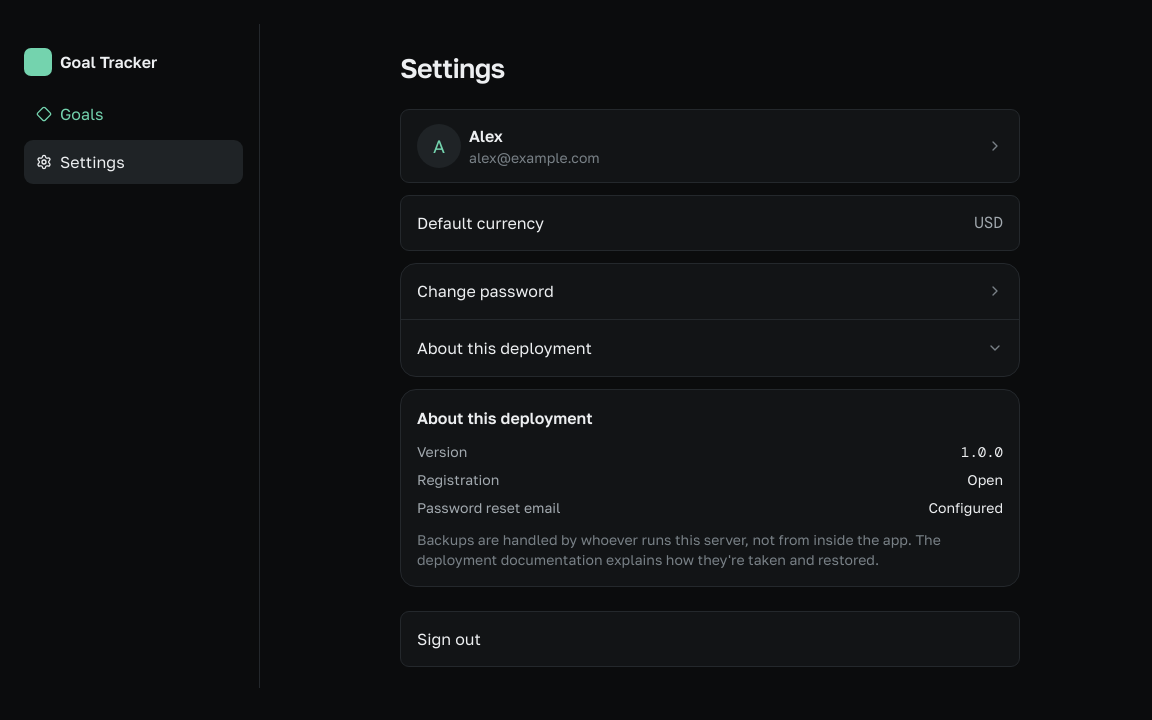
Test: M1 web identity flows › shows a recoverable sign-out failure and re-enables the action
Click the button "Sign out" at (449,638), box [400, 610, 1020, 666]
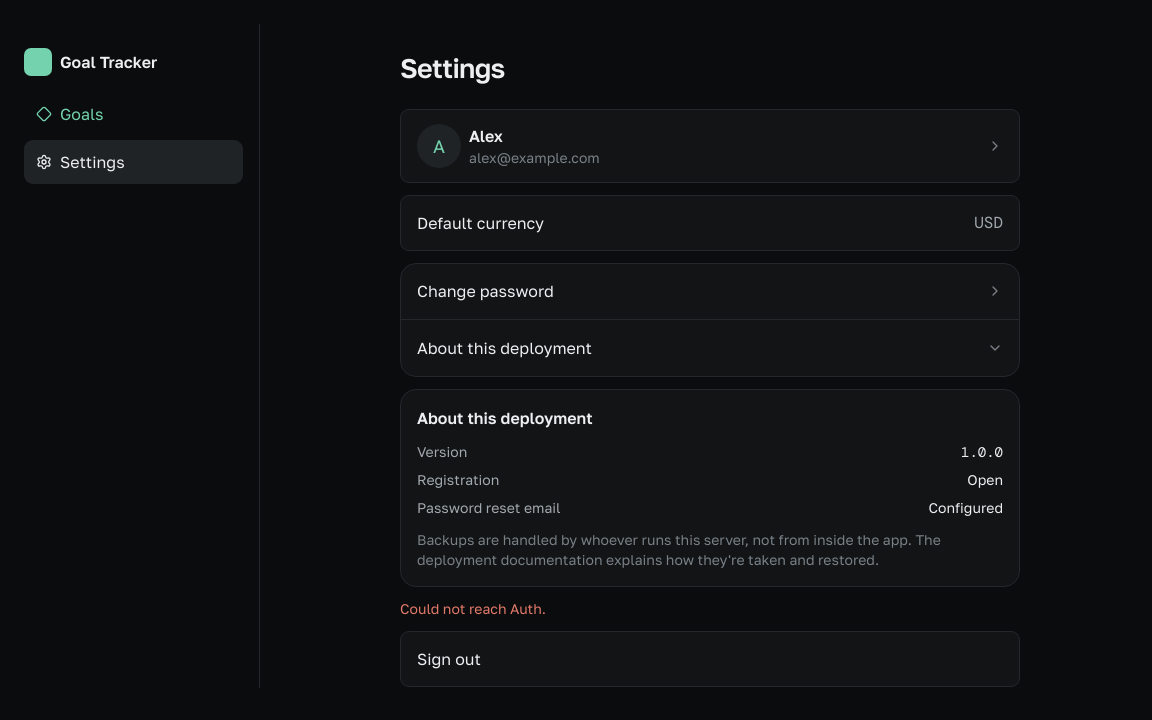
Expected: the button "Sign out" is enabled, [400, 630, 1020, 686]
Now the message reads "Could not reach Auth.", box [400, 600, 546, 616]
